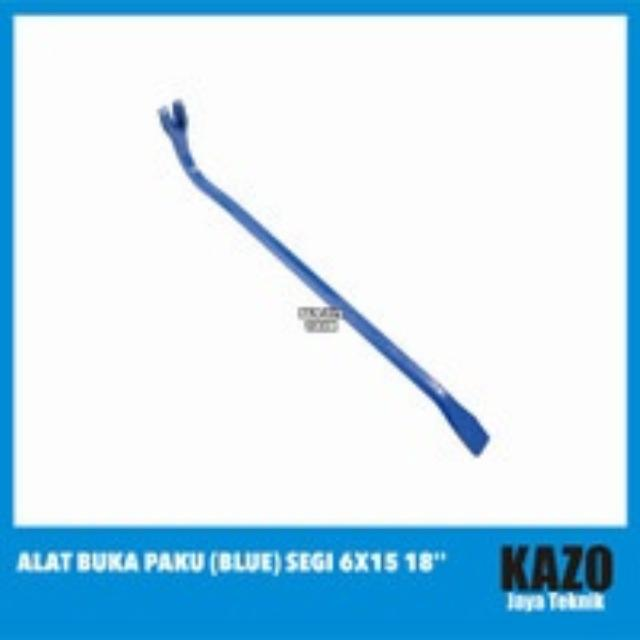crow bar: (156, 97, 490, 460)
